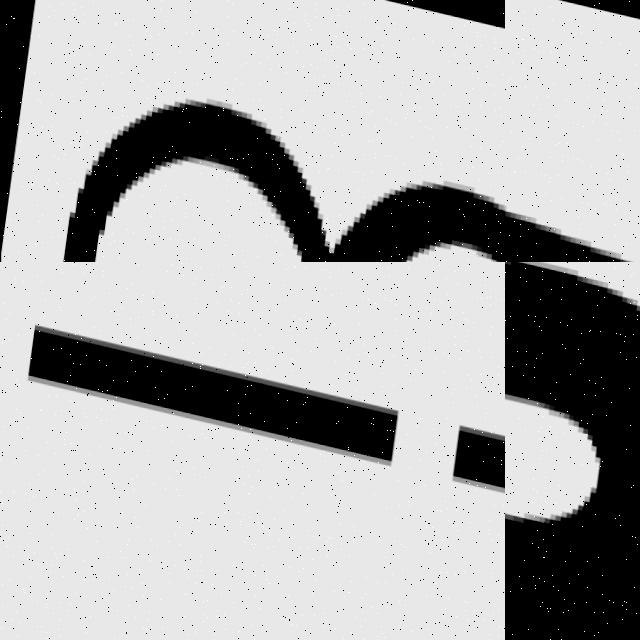8: (37, 58, 505, 262)
D: (505, 262, 640, 640)
I: (18, 310, 505, 500)
K: (505, 96, 640, 262)
